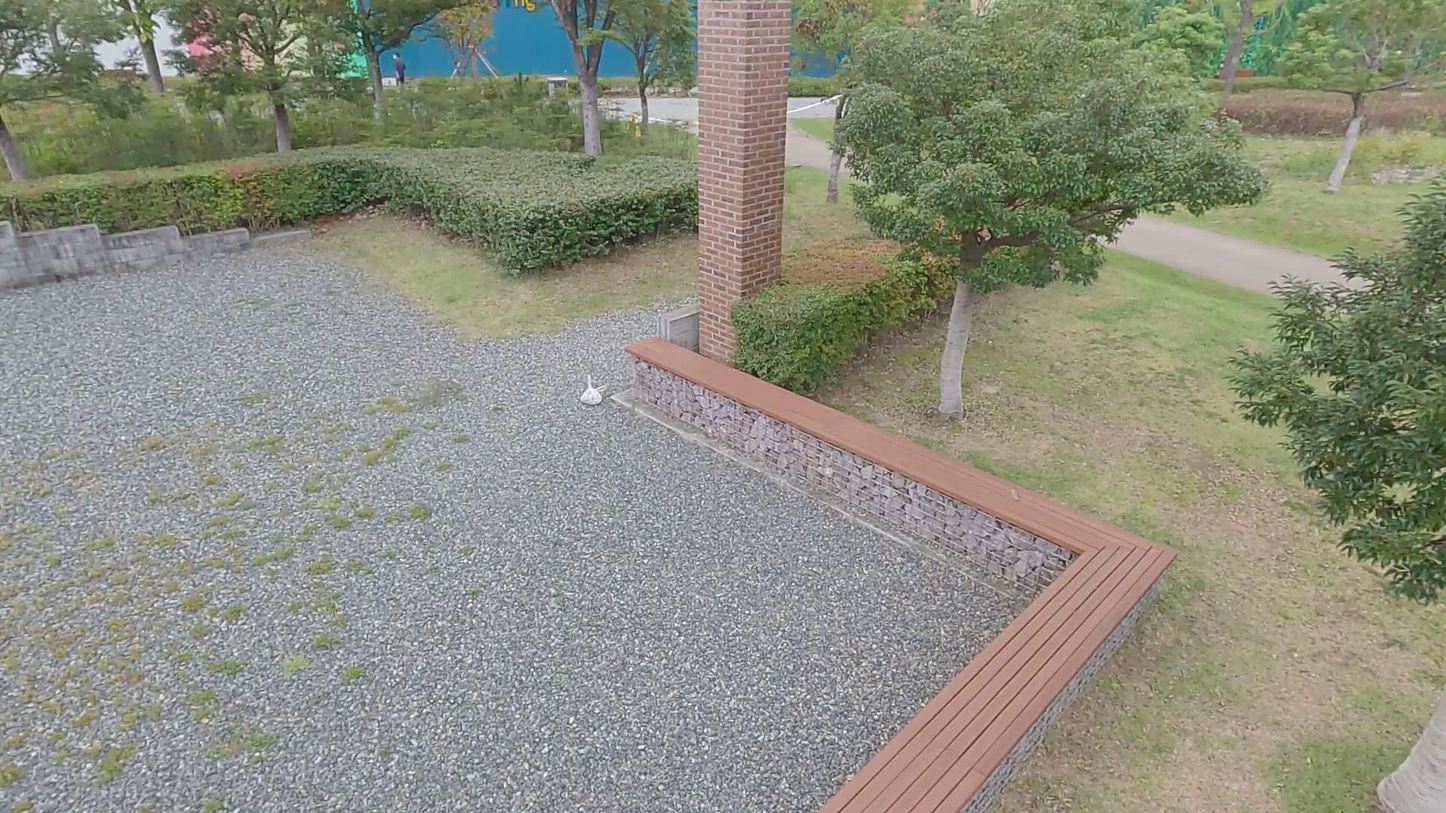trash: (576, 374, 613, 408)
